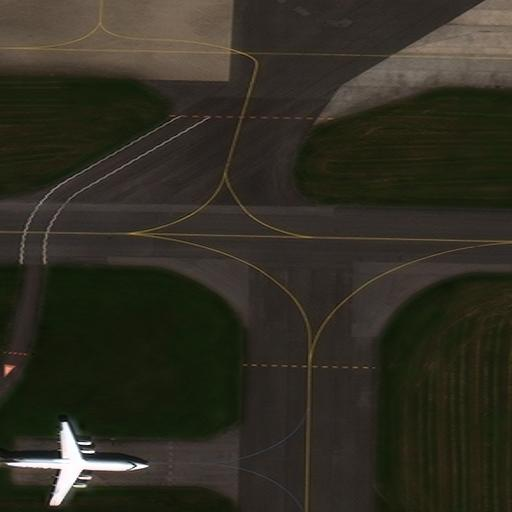Medium Civil Transport: (0, 419, 150, 506)
